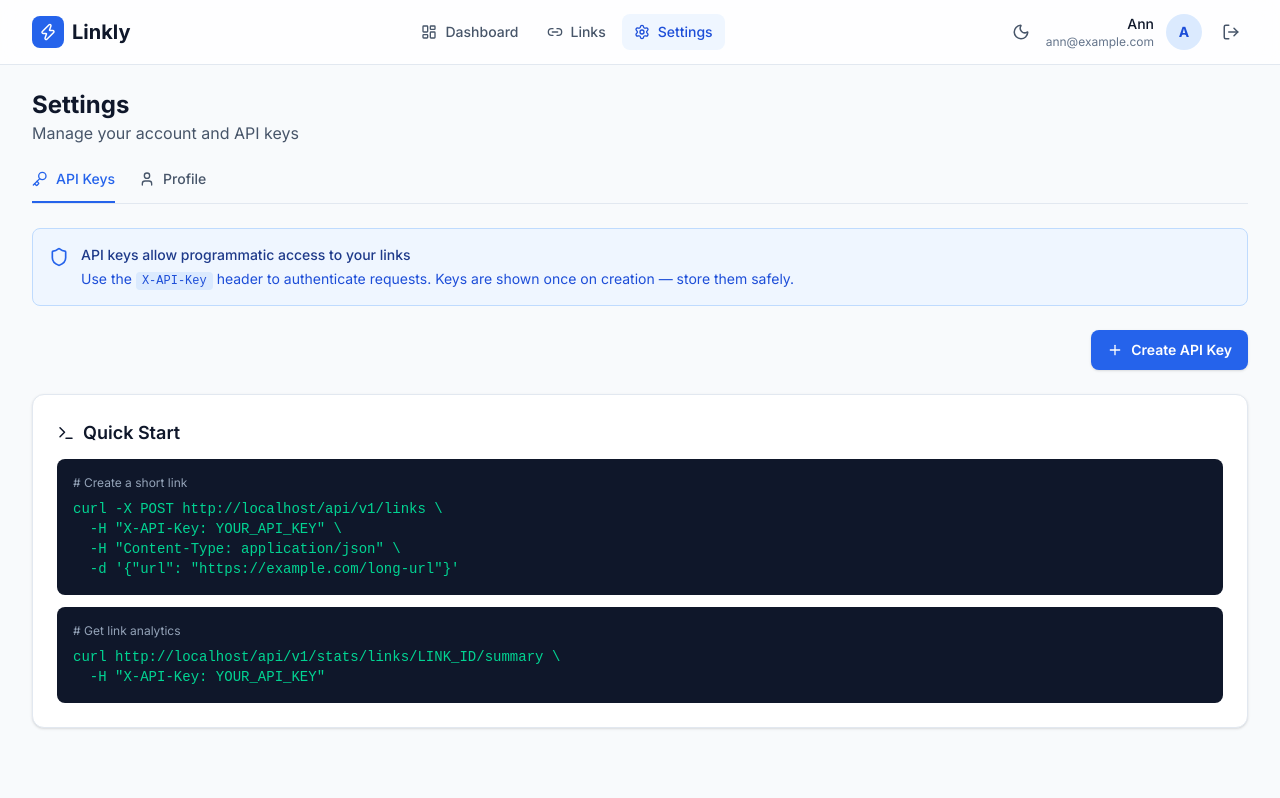
Test case: Settings › deletes the account after the password is confirmed
Click the button "Profile" at (173, 186), box [139,169,206,203]
(page scrolled)
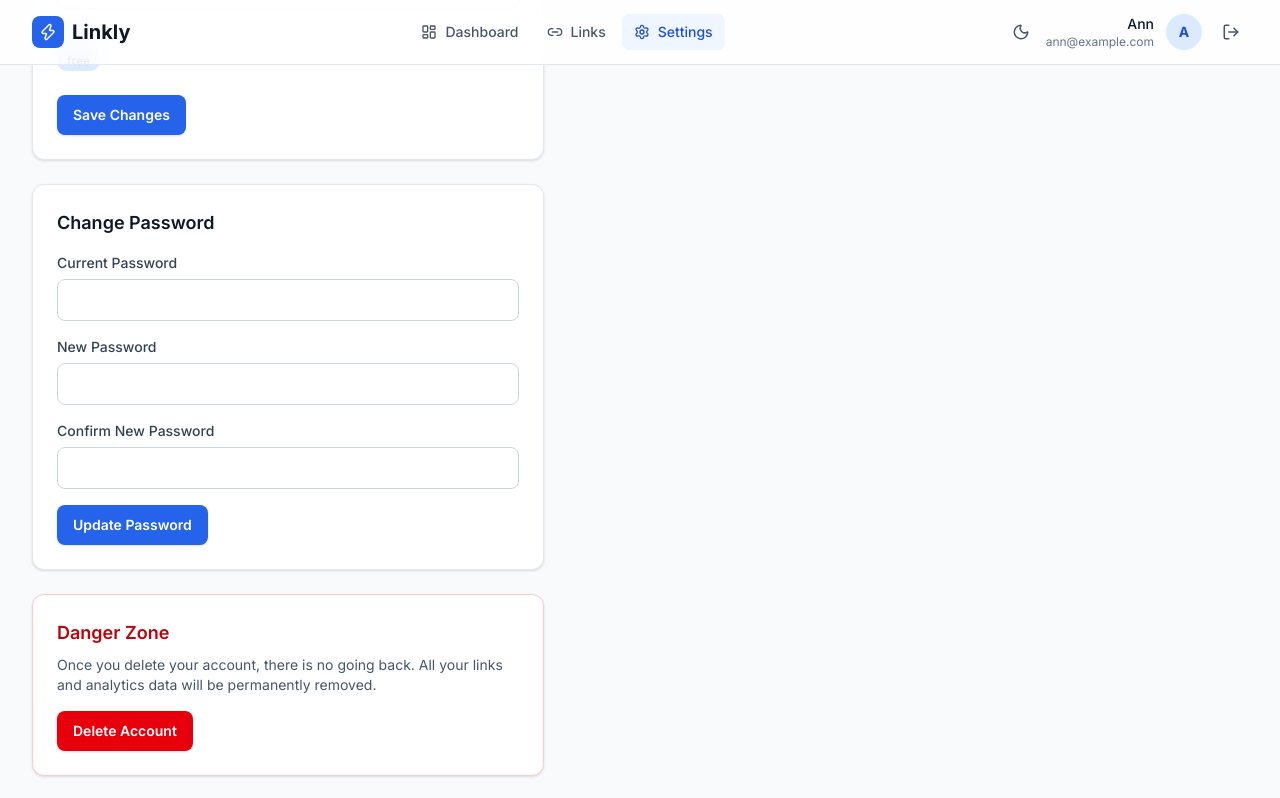
Click the button "Delete Account" at (125, 731), box [57,711,193,751]
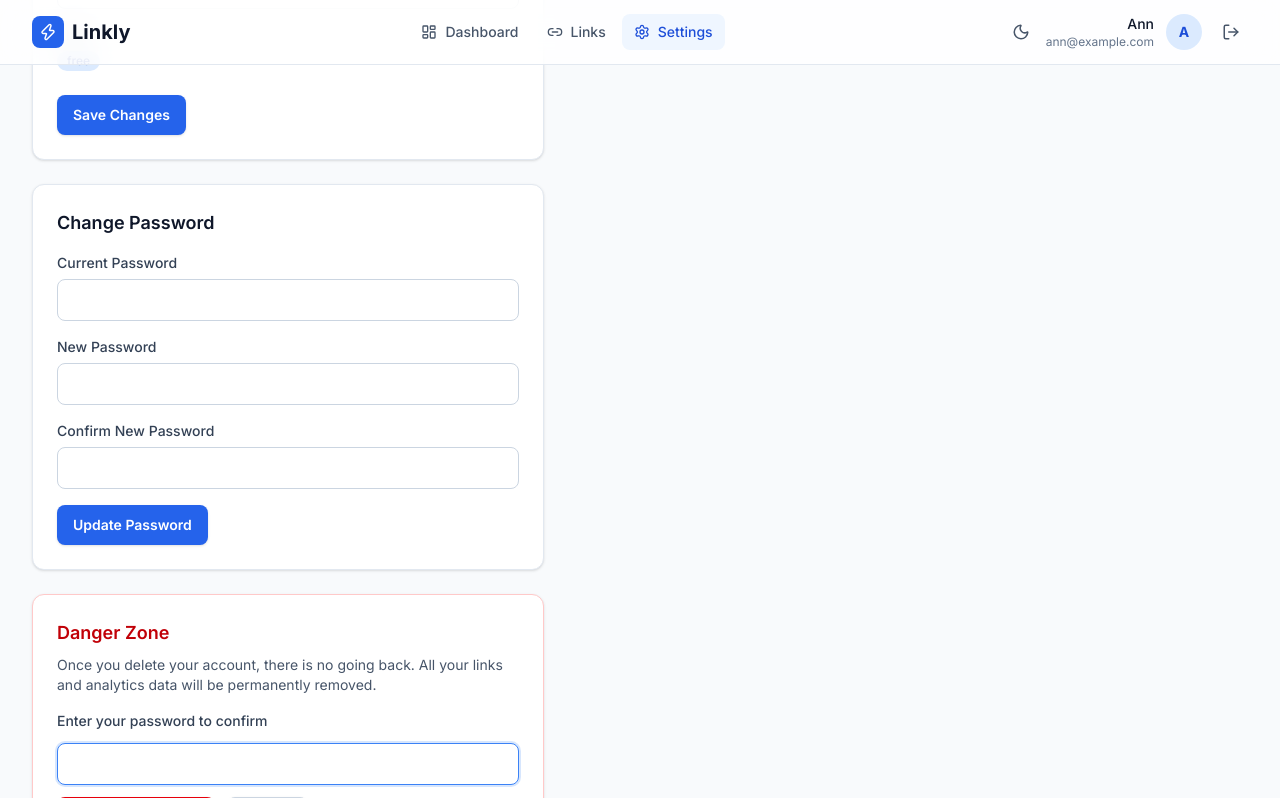
Type "secret123" into the password field labelled "Enter your password to confirm" at (288, 764), box [57,743,519,785]
(page scrolled)
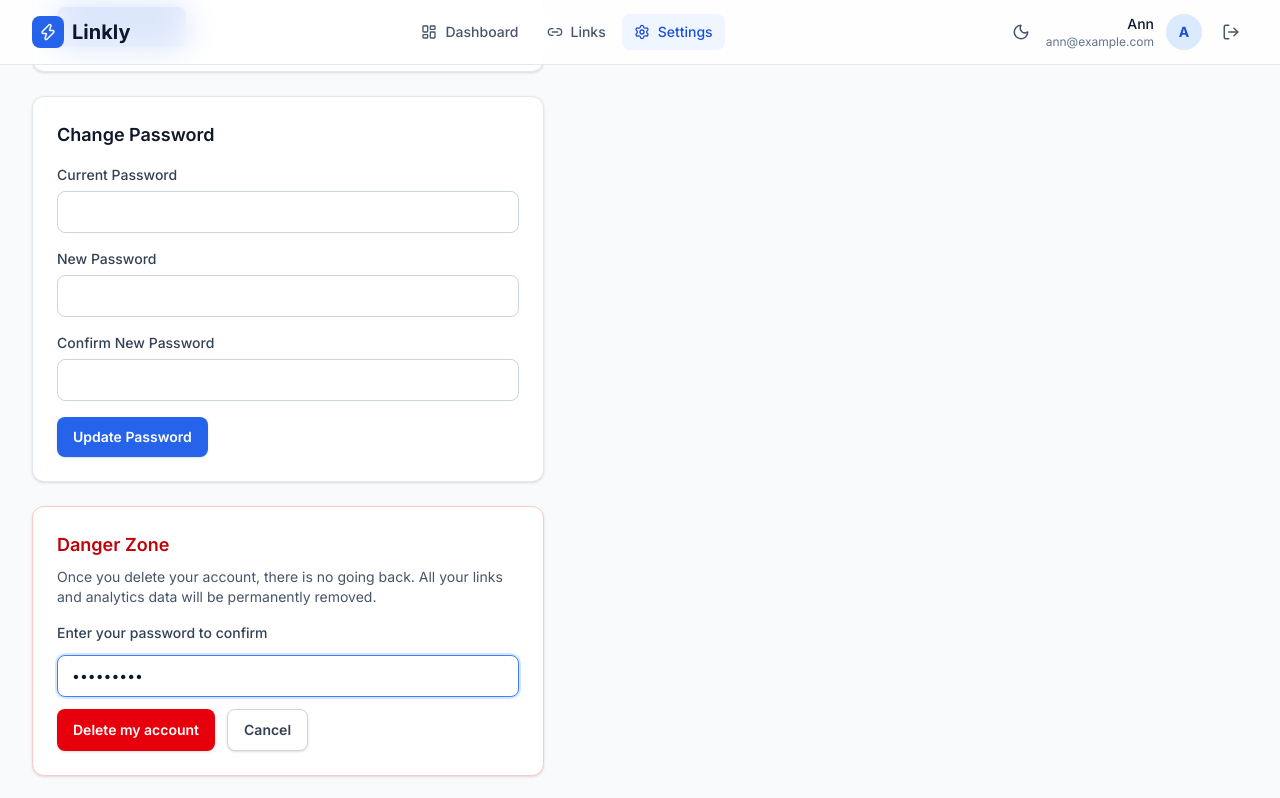
Click the button "Delete my account" at (136, 730), box [57,709,215,751]
(page scrolled)
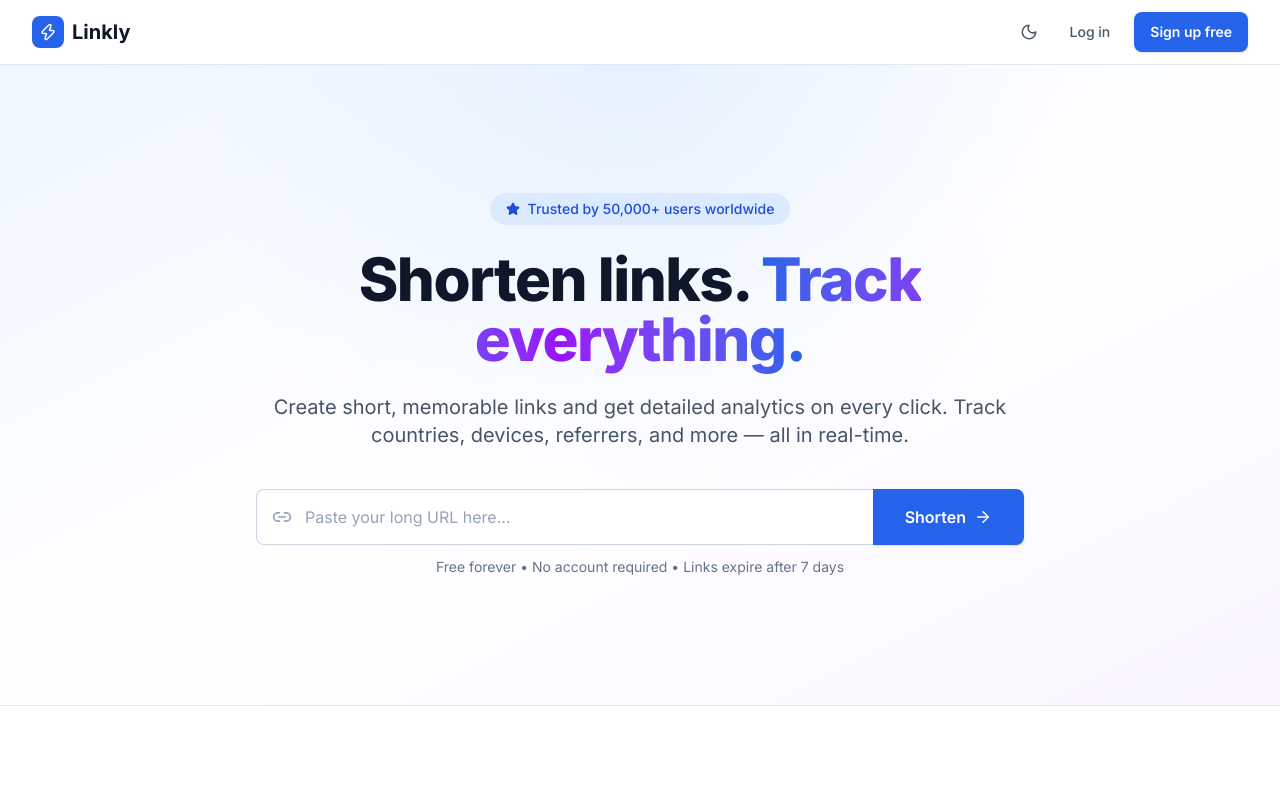
expect the field with placeholder "Paste your long URL here..." is shown: met, box [256,489,873,545]
